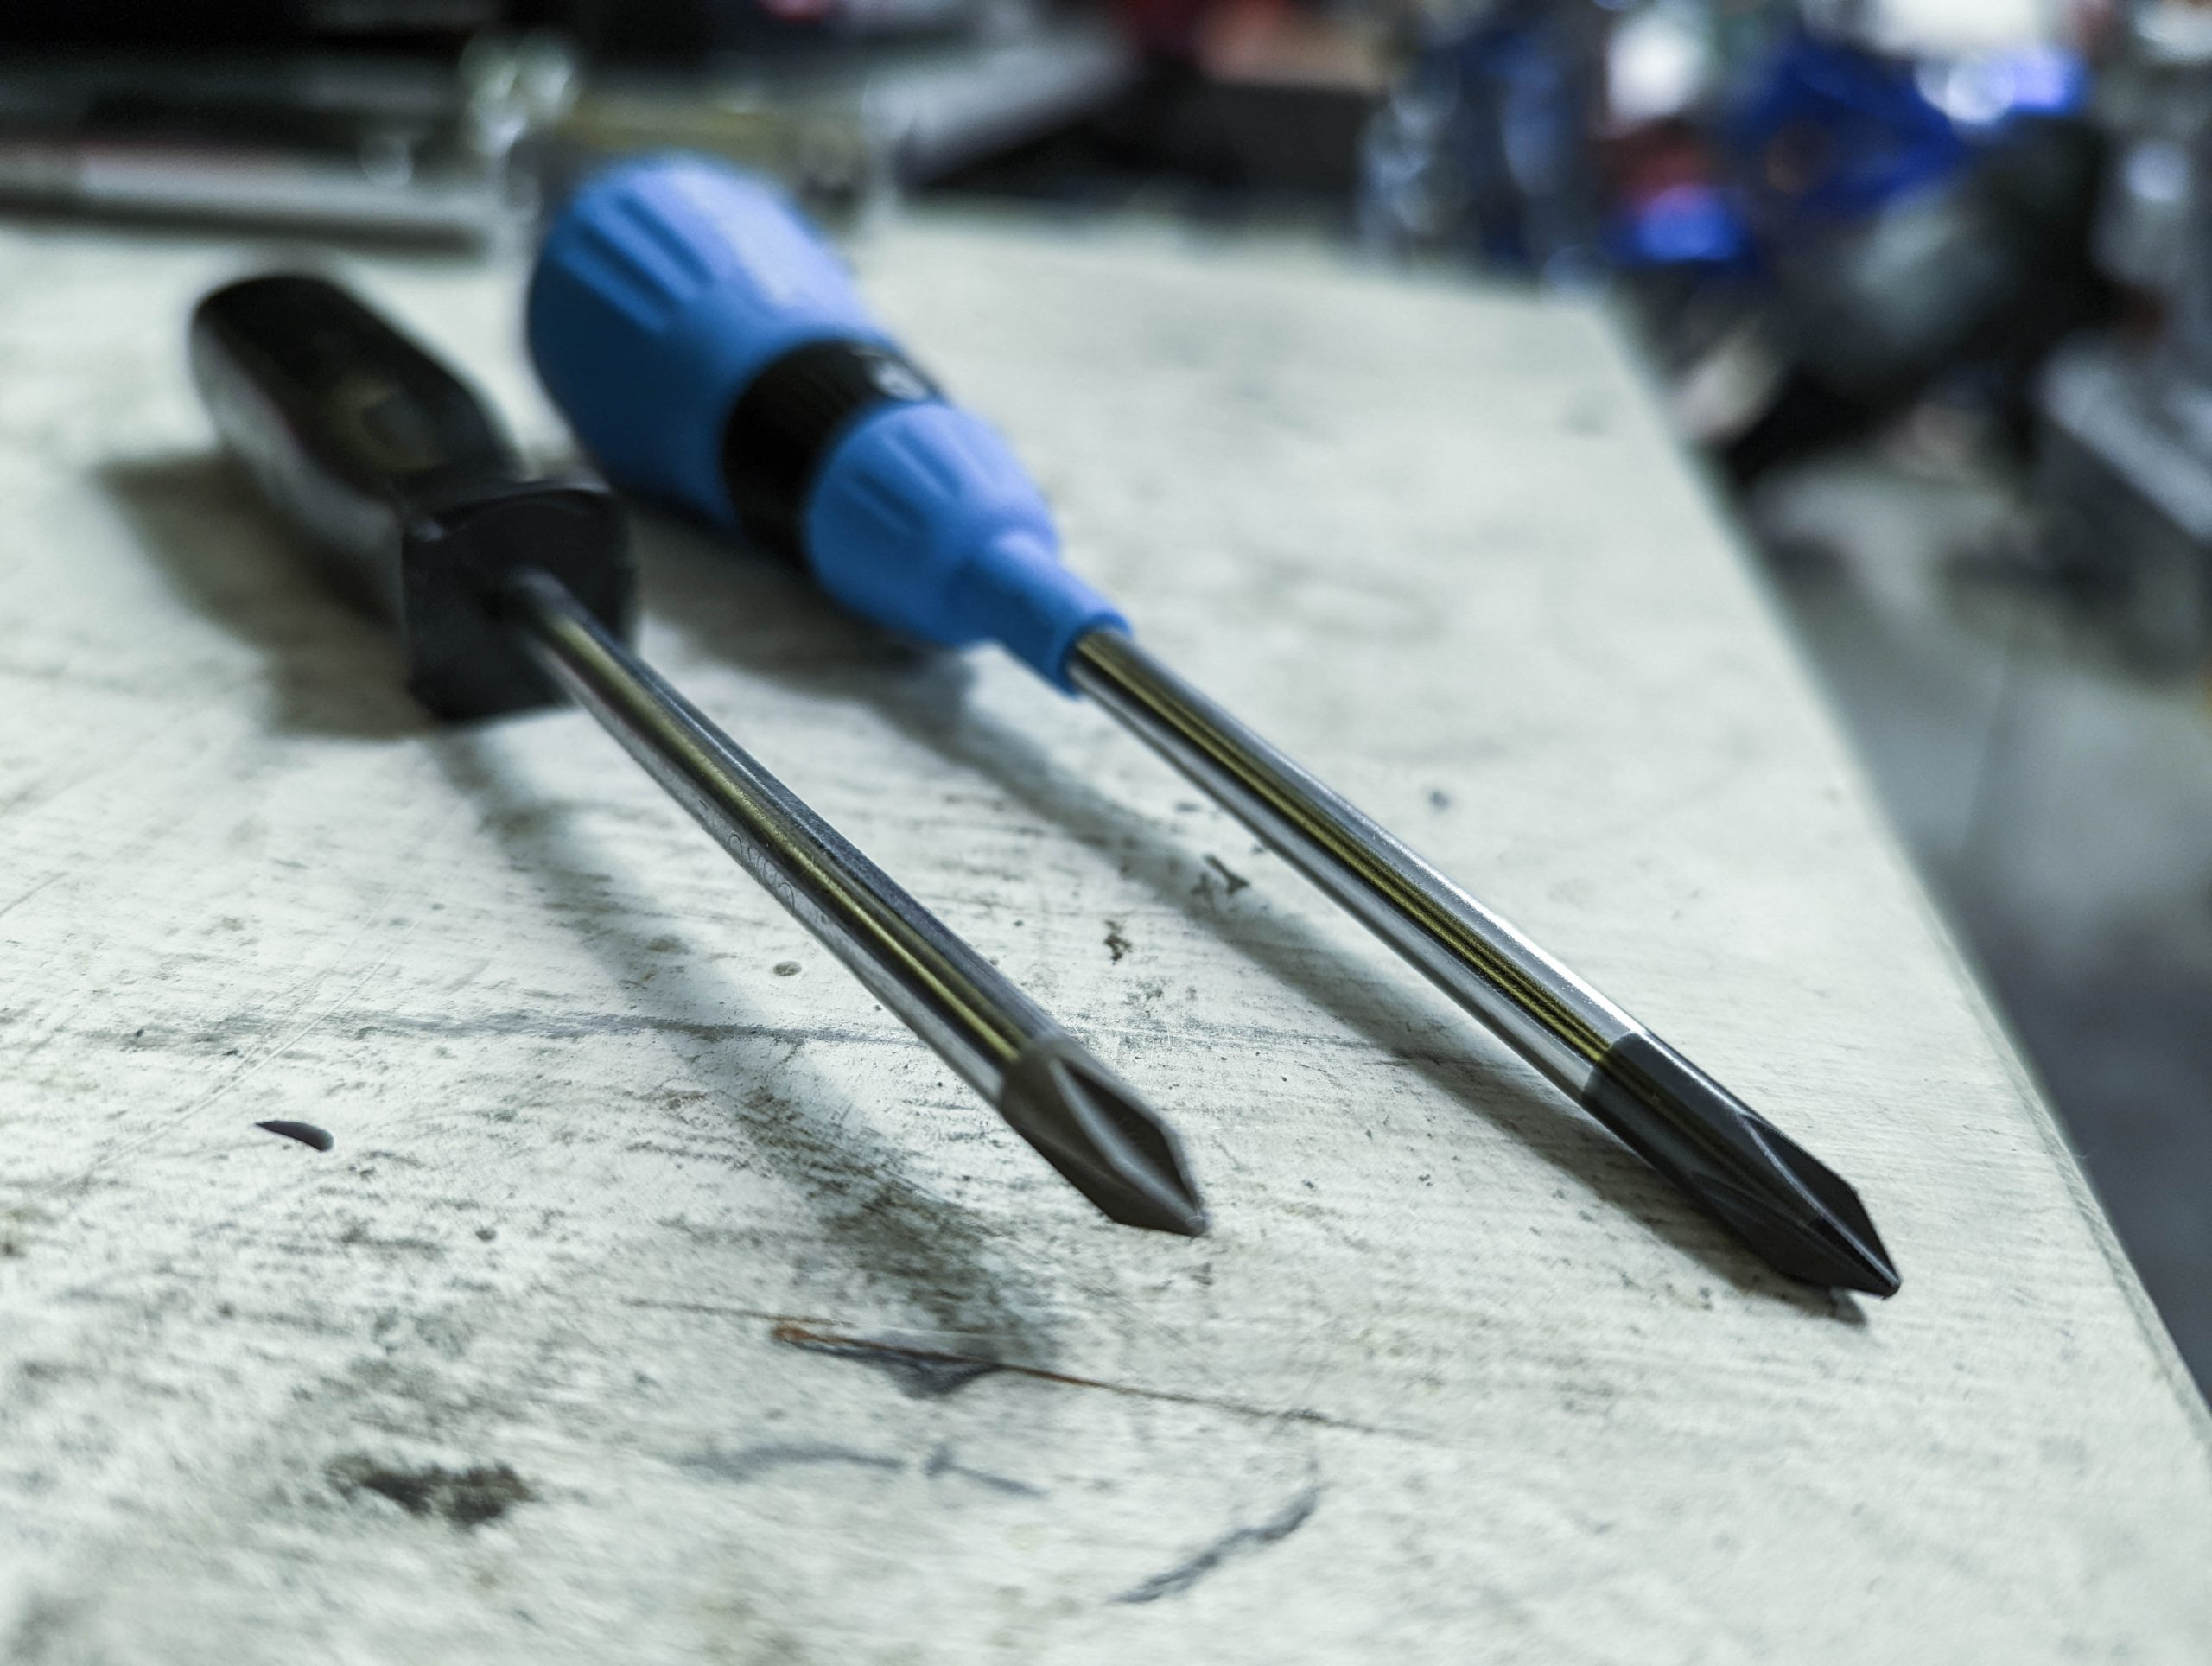screwdriver: (500, 140, 1920, 1307), (178, 255, 1223, 1253)
